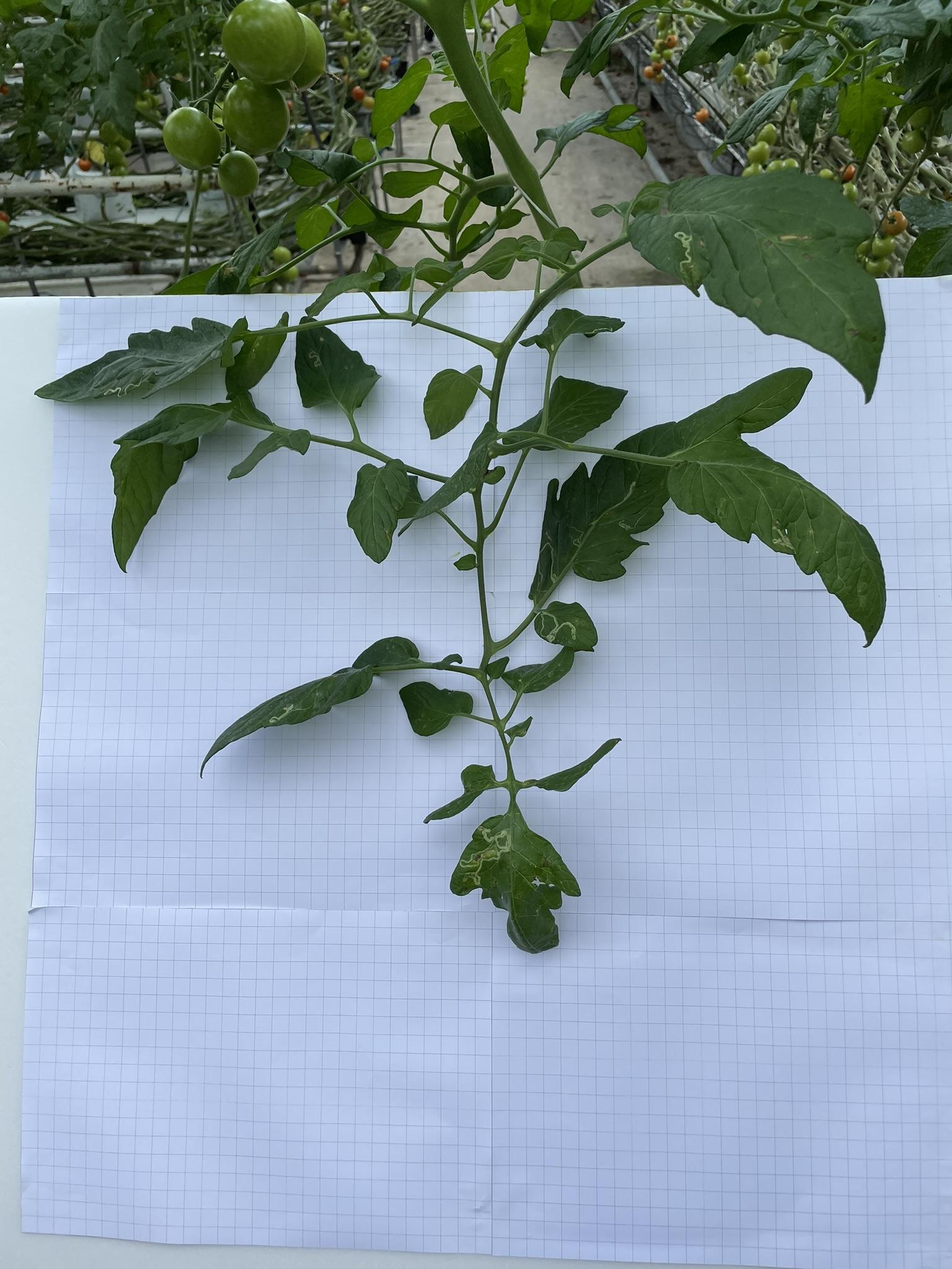Healthy: (110, 390, 278, 574), (397, 419, 496, 539), (501, 375, 628, 452), (346, 457, 411, 565), (675, 19, 757, 77), (228, 428, 310, 482), (424, 365, 483, 439), (398, 680, 474, 737), (305, 269, 387, 319)
Leaf_Miner: (667, 365, 889, 644), (625, 171, 887, 404), (195, 634, 421, 779), (526, 420, 676, 601), (447, 812, 581, 954), (31, 315, 249, 402), (295, 316, 384, 411), (518, 306, 627, 353), (532, 597, 600, 652)
